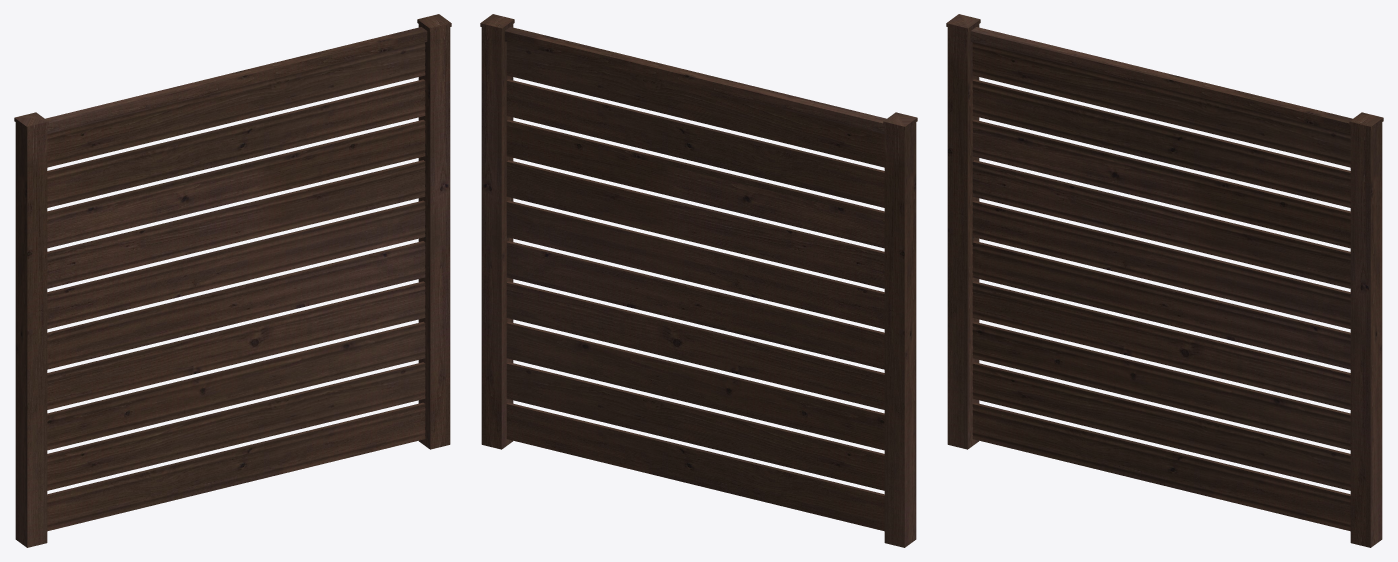
Rendered from huubistraight_h1200_darkpine.fbx.
3 renders of one model, left to right at view 1: azimuth 30°, elevation 25°; view 2: azimuth 150°, elevation 25°; view 3: azimuth 330°, elevation 25°, orthographic.
Visible parts, largest first — view 1: huubistraight_h1200_darkpine.001; view 2: huubistraight_h1200_darkpine.001; view 3: huubistraight_h1200_darkpine.001.
Part boxes in pixels (box(x1,y1,x2,y2)): huubistraight_h1200_darkpine.001: box(14, 14, 451, 547); huubistraight_h1200_darkpine.001: box(480, 14, 917, 547); huubistraight_h1200_darkpine.001: box(946, 14, 1383, 547).
Bounding box in the file's own units: 126 × 120 × 6.5.
1 material, 1 textured.
